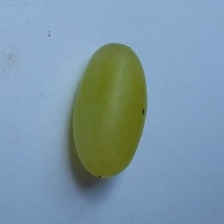grapes: (41, 21, 216, 172)
